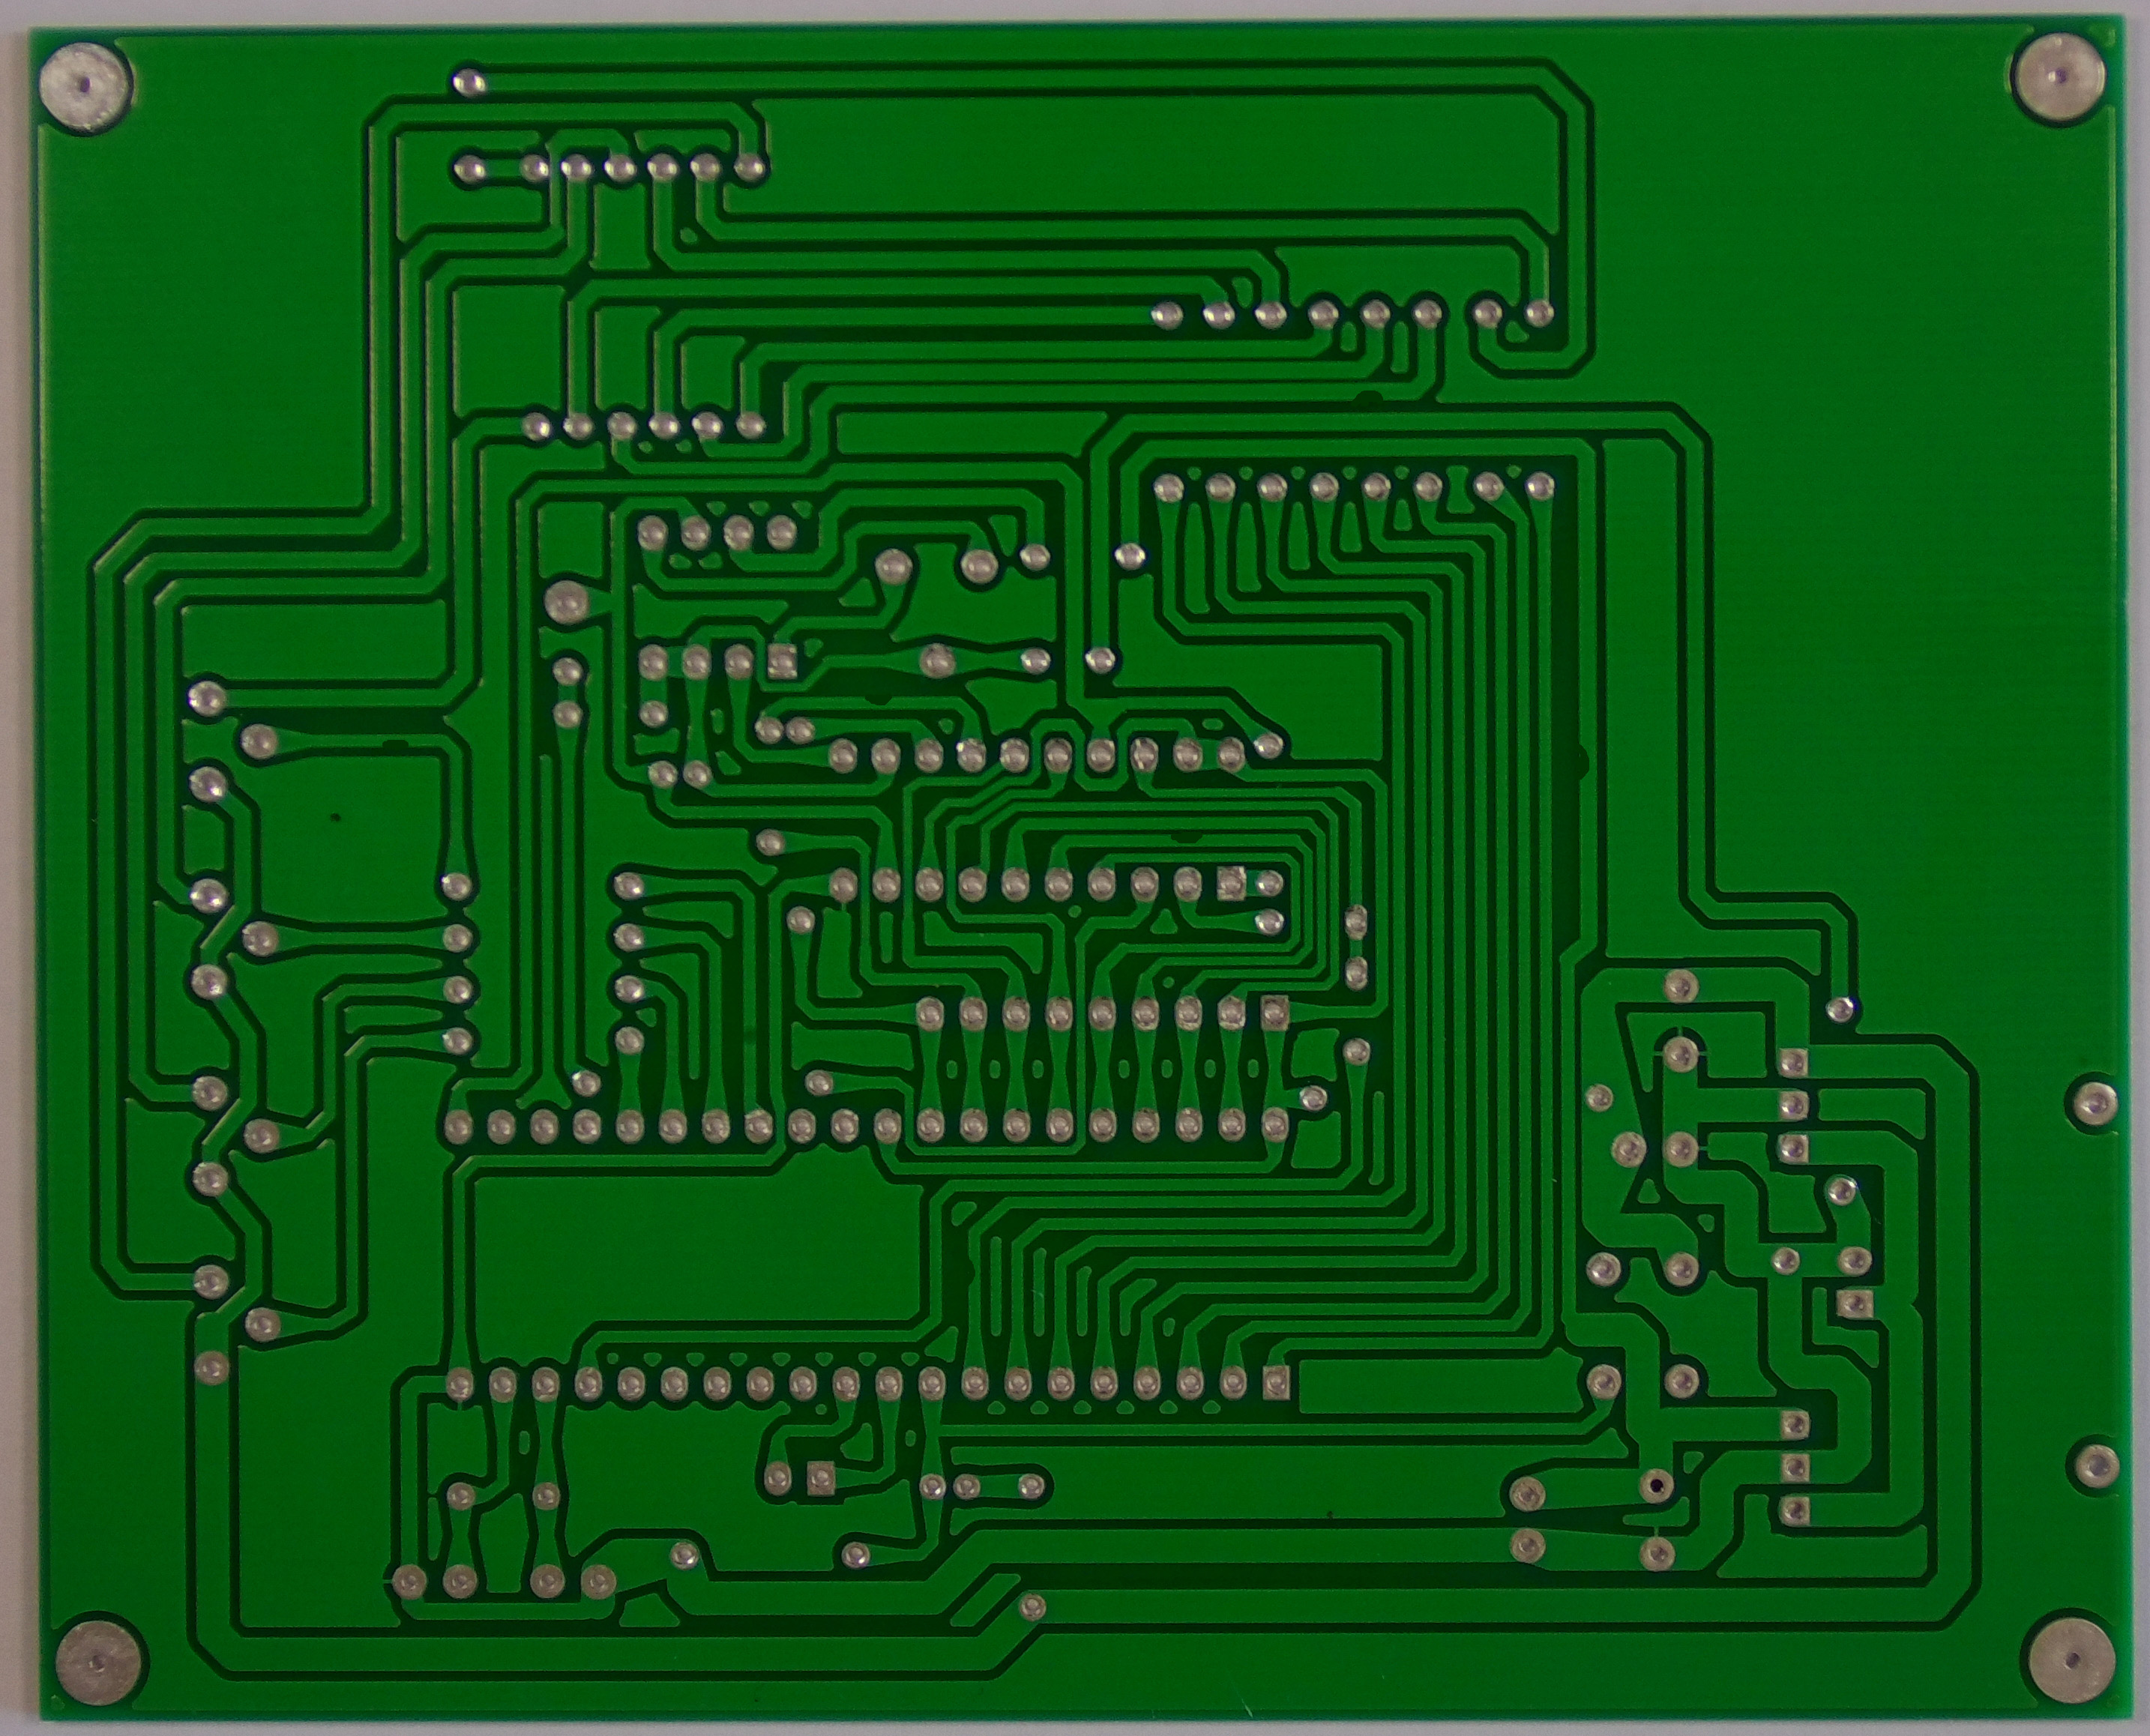mouse_bite: (1562, 735, 1597, 792), (368, 726, 419, 757), (1159, 825, 1211, 851), (1346, 381, 1390, 409), (955, 1250, 982, 1292), (856, 687, 900, 712)
